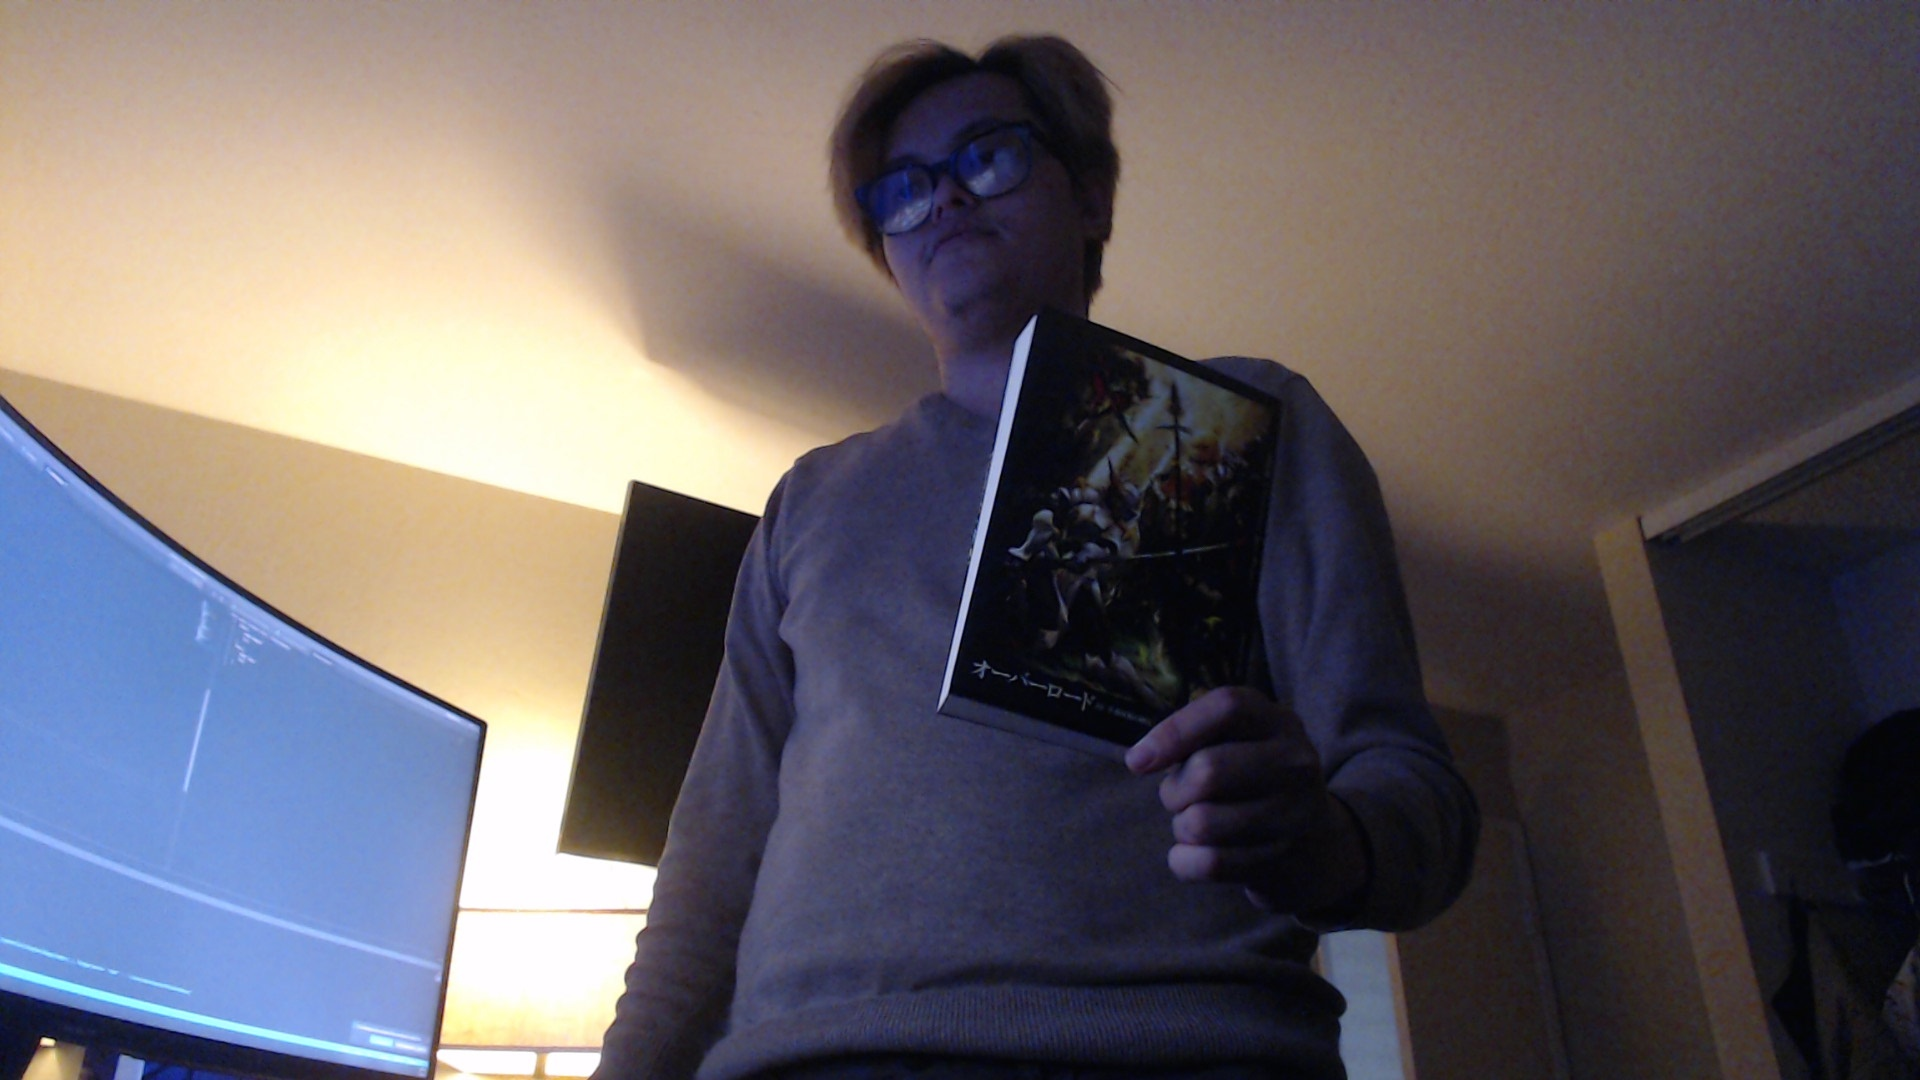book: (932, 311, 1287, 779)
